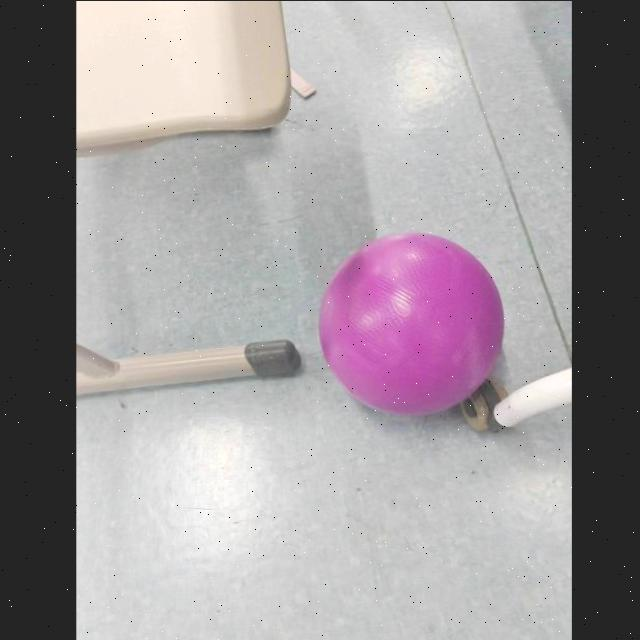P: (314, 229, 508, 417)
